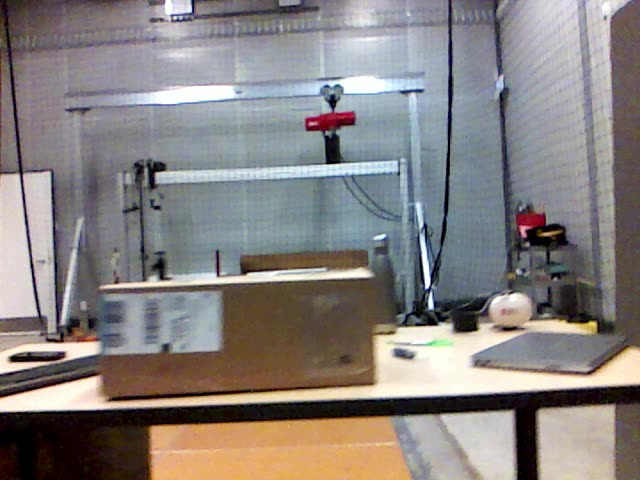box: (99, 267, 373, 396)
